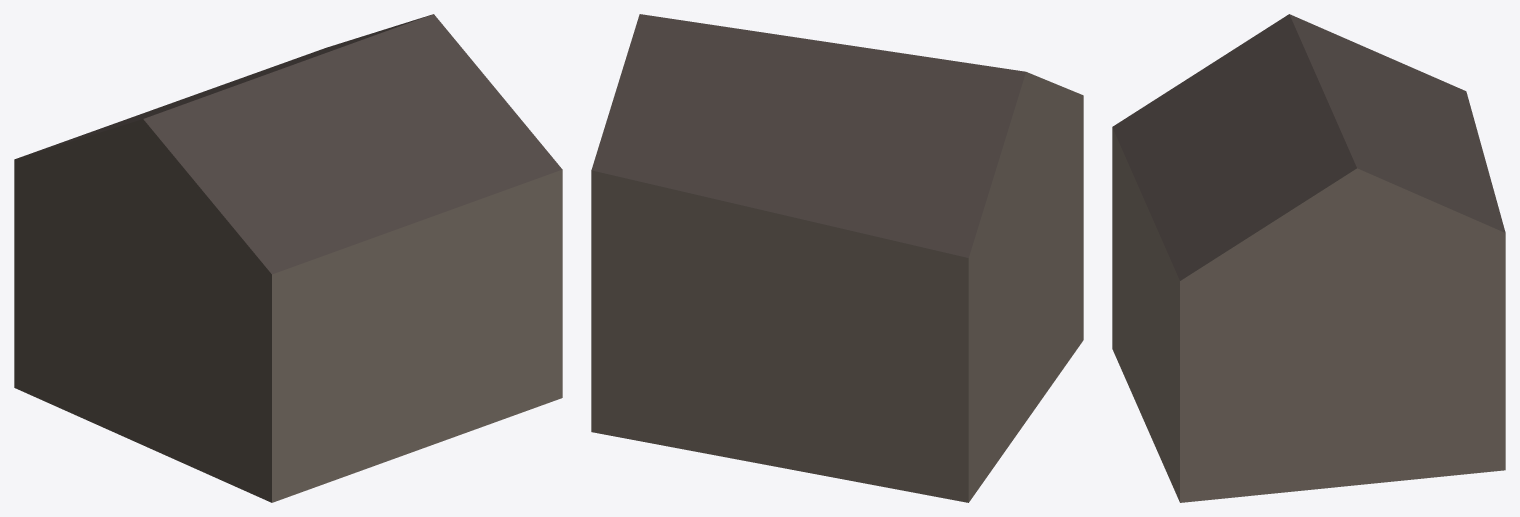
3 renders of one model, left to right at view 1: azimuth 30°, elevation 25°; view 2: azimuth 150°, elevation 25°; view 3: azimuth 270°, elevation 25°, orthographic. The views are drawn at different scales.
Visible parts, largest first — view 1: HP-w1512965858; view 2: HP-w1512965858; view 3: HP-w1512965858.
Boxes of the visible parts, x1=… form: HP-w1512965858: x1=14, y1=14, x2=562, y2=502; HP-w1512965858: x1=591, y1=14, x2=1083, y2=502; HP-w1512965858: x1=1112, y1=14, x2=1505, y2=502.
Size of the model in its own units: 11.01 by 8.57 by 9.65.
